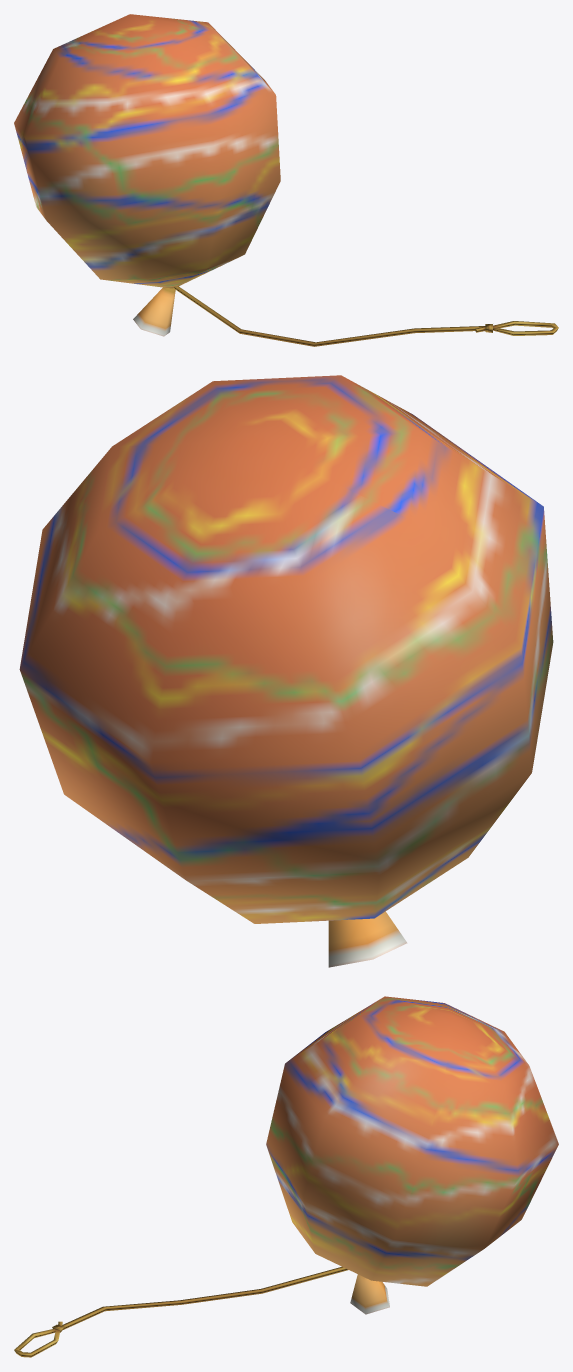
Rendered from jsf_WaterBalloon_11_d.fbx.
The picture shows the model from 3 angles, top to bottom: view 1: azimuth 30°, elevation 25°; view 2: azimuth 150°, elevation 25°; view 3: azimuth 270°, elevation 25°; orthographic projection. The views are drawn at different scales.
Parts seen in each view (by area): view 1: jsf_WaterBalloon_11_d; view 2: jsf_WaterBalloon_11_d; view 3: jsf_WaterBalloon_11_d.
Boxes of the visible parts, x1=… form: jsf_WaterBalloon_11_d: x1=14, y1=14, x2=558, y2=346; jsf_WaterBalloon_11_d: x1=19, y1=375, x2=553, y2=967; jsf_WaterBalloon_11_d: x1=14, y1=996, x2=558, y2=1357.
Bounding box in the file's own units: 15.63 × 12.55 × 20.67.
